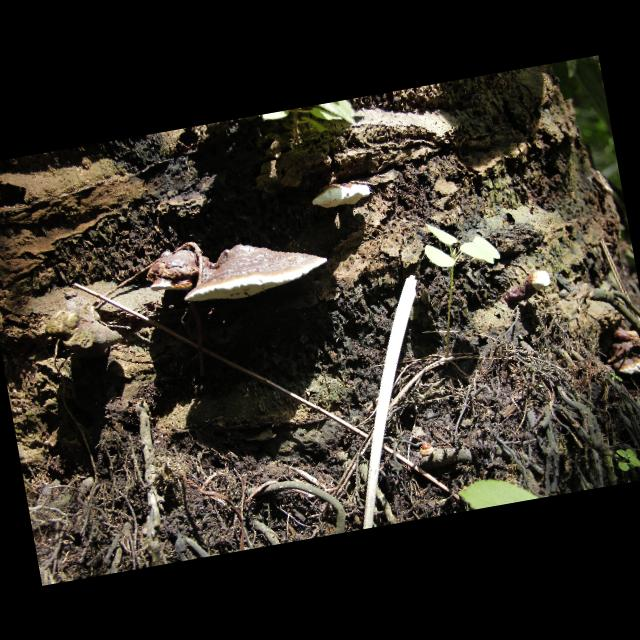ganoderma: (176, 231, 332, 310), (142, 244, 216, 298), (310, 178, 373, 213), (608, 338, 640, 379)
primordium: (522, 268, 553, 296)
